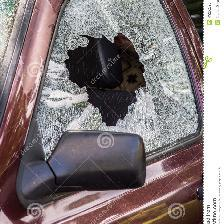broken_glass: (45, 0, 176, 130)
